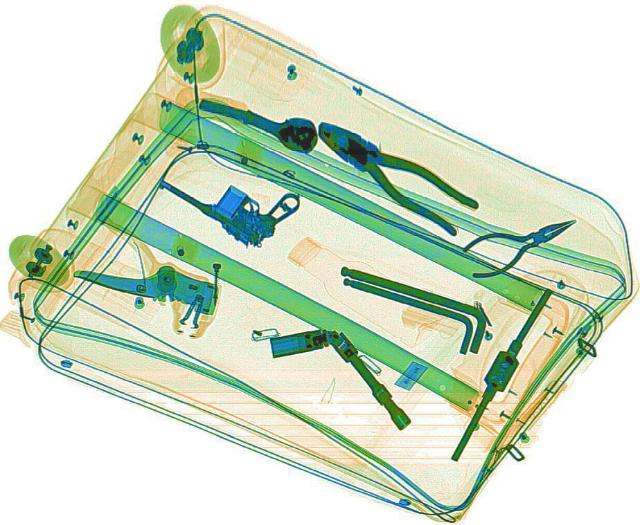Gun: (150, 137, 312, 252)
Pliers: (300, 111, 488, 237), (453, 202, 589, 281)
